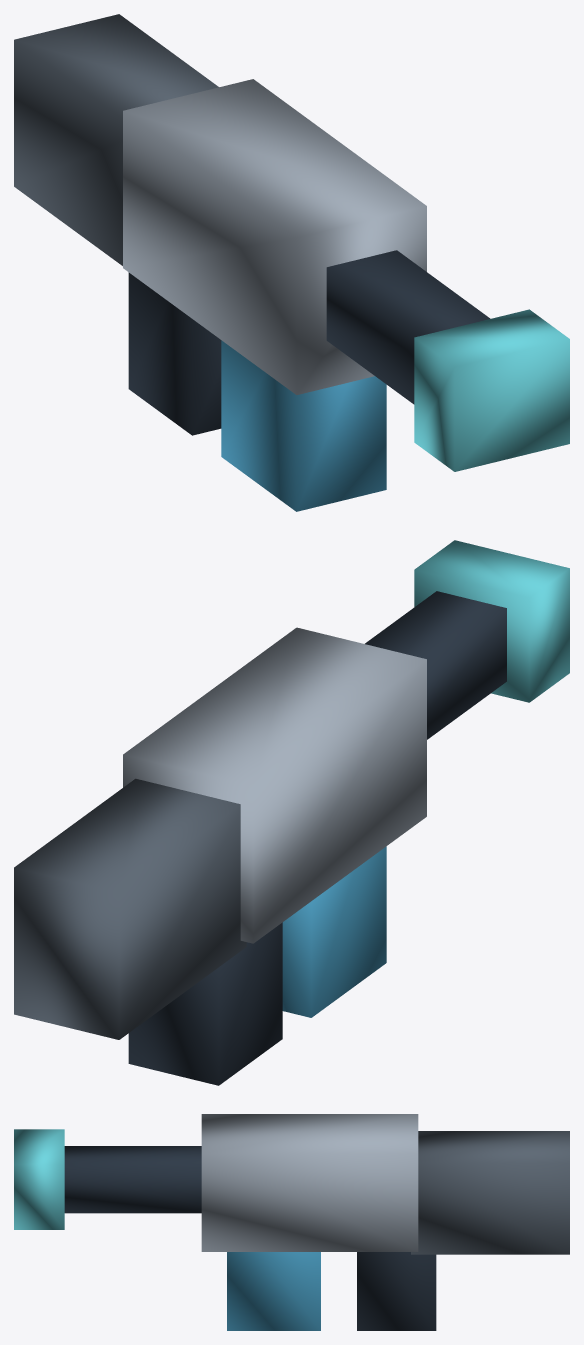
The model's file is gladius.glb.
The picture shows the model from 3 angles, top to bottom: view 1: azimuth 30°, elevation 25°; view 2: azimuth 150°, elevation 25°; view 3: azimuth 270°, elevation 25°; orthographic projection. The views are drawn at different scales.
Visible parts, largest first — view 1: Hardware; view 2: Hardware; view 3: Hardware.
Boxes of the visible parts, box(x1,y1,x2,y2) form: Hardware: box(14, 14, 569, 511); Hardware: box(14, 540, 569, 1085); Hardware: box(14, 1114, 569, 1330).
Bounding box in the file's own units: 0.13 × 0.28 × 0.77.
